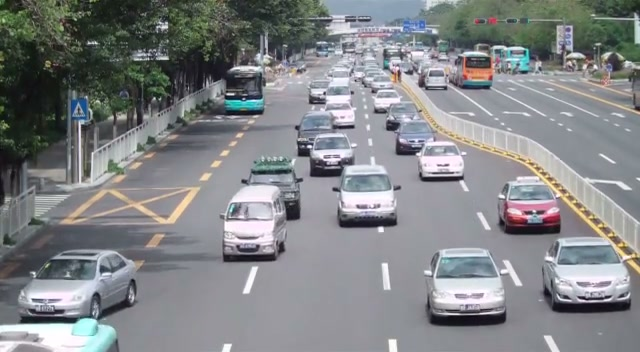bus: (224, 66, 265, 115), (451, 51, 494, 88)
car: (17, 249, 143, 322), (541, 237, 633, 312), (423, 247, 509, 324), (219, 184, 288, 262), (0, 317, 120, 352), (334, 164, 400, 227), (496, 178, 562, 234), (245, 155, 303, 218), (416, 140, 465, 181), (309, 133, 355, 176), (295, 111, 336, 156), (394, 120, 437, 155), (385, 102, 421, 131), (325, 101, 356, 129), (372, 89, 403, 114), (423, 68, 448, 91)
truck: (241, 154, 303, 219), (491, 46, 529, 74)
